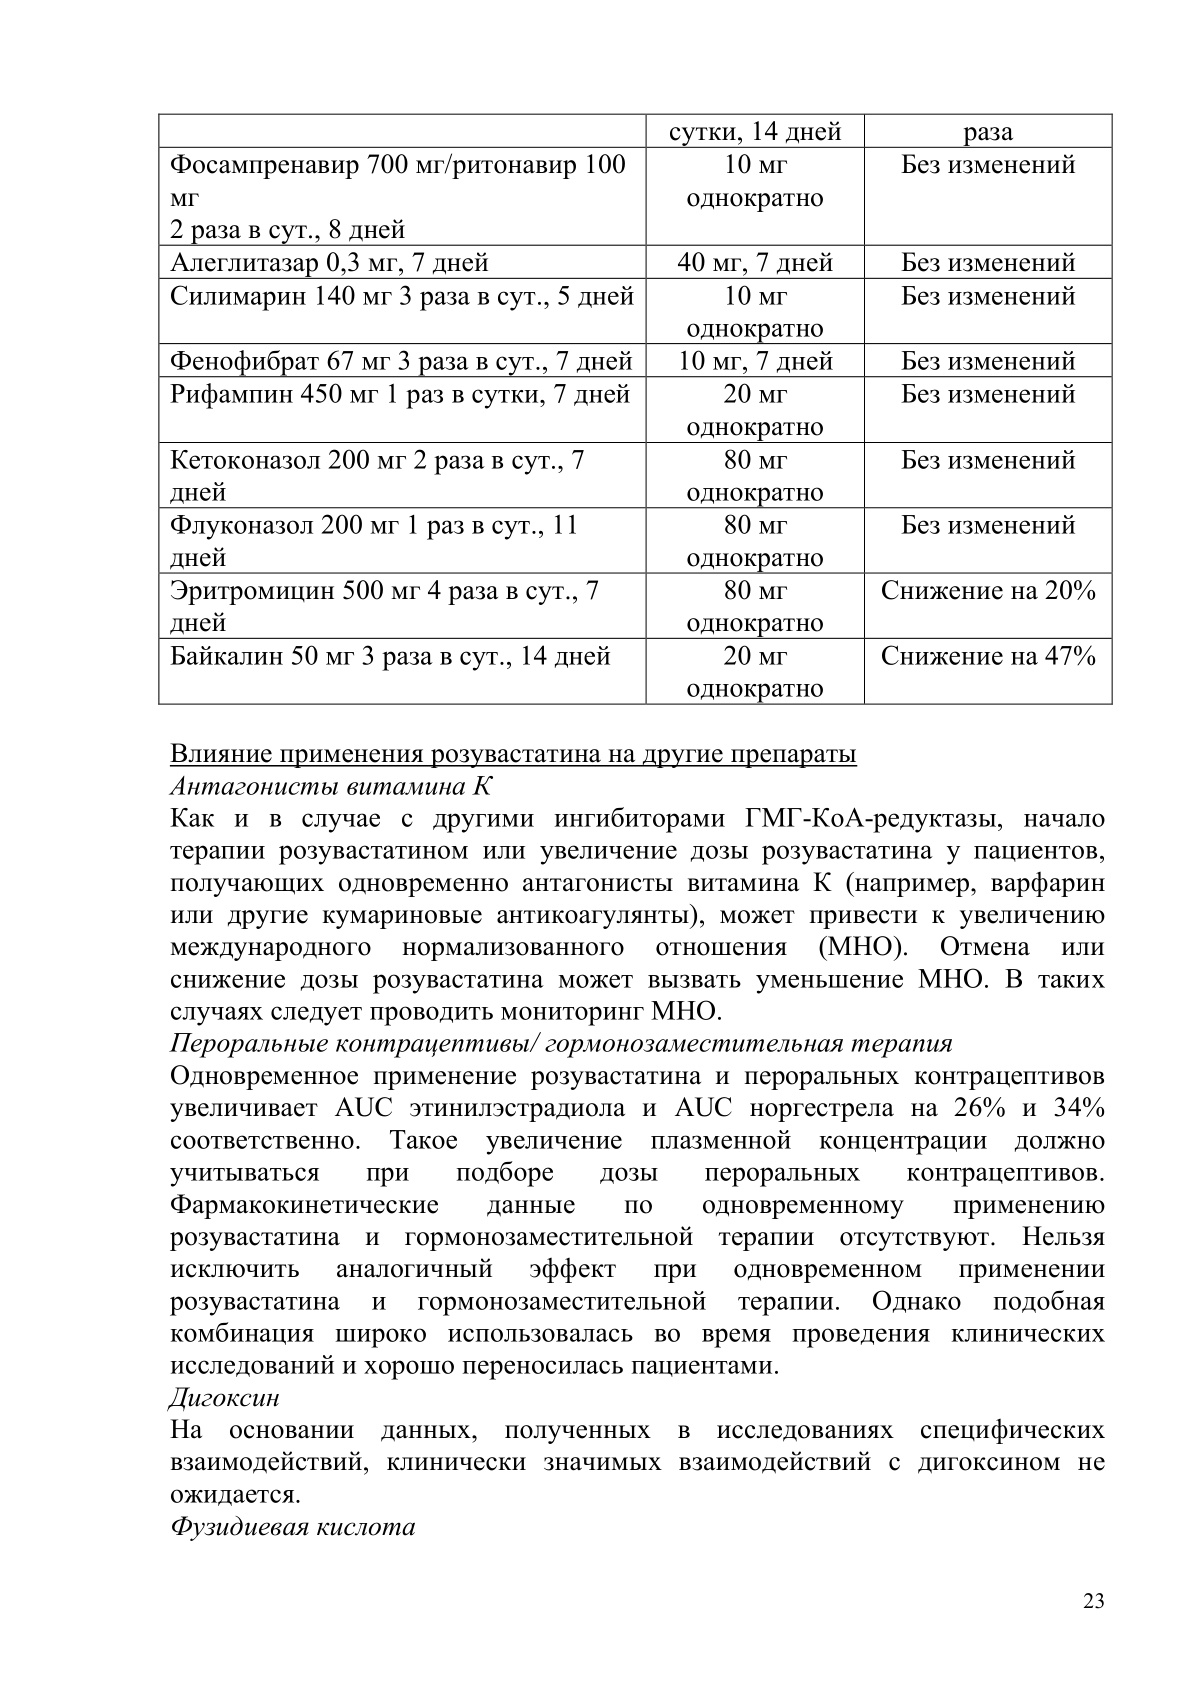full_lined: (159, 113, 1112, 706)
